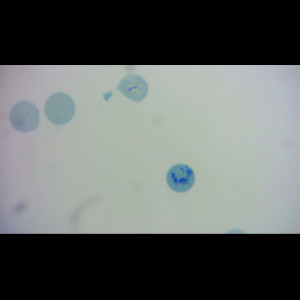aggregate reticulocyte: (165, 163, 196, 193)
erythrocyte: (116, 73, 149, 102)
punctate reticulocyte: (8, 100, 42, 134), (43, 92, 76, 126)
